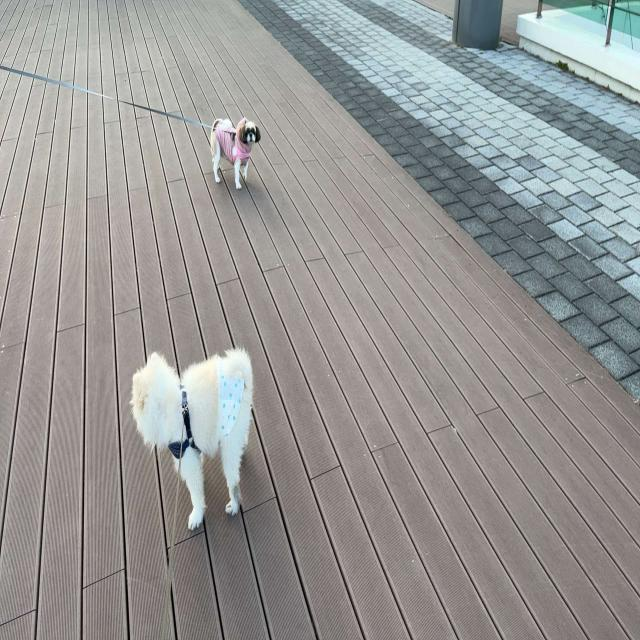Dog: (128, 345, 254, 531), (210, 114, 261, 192)
